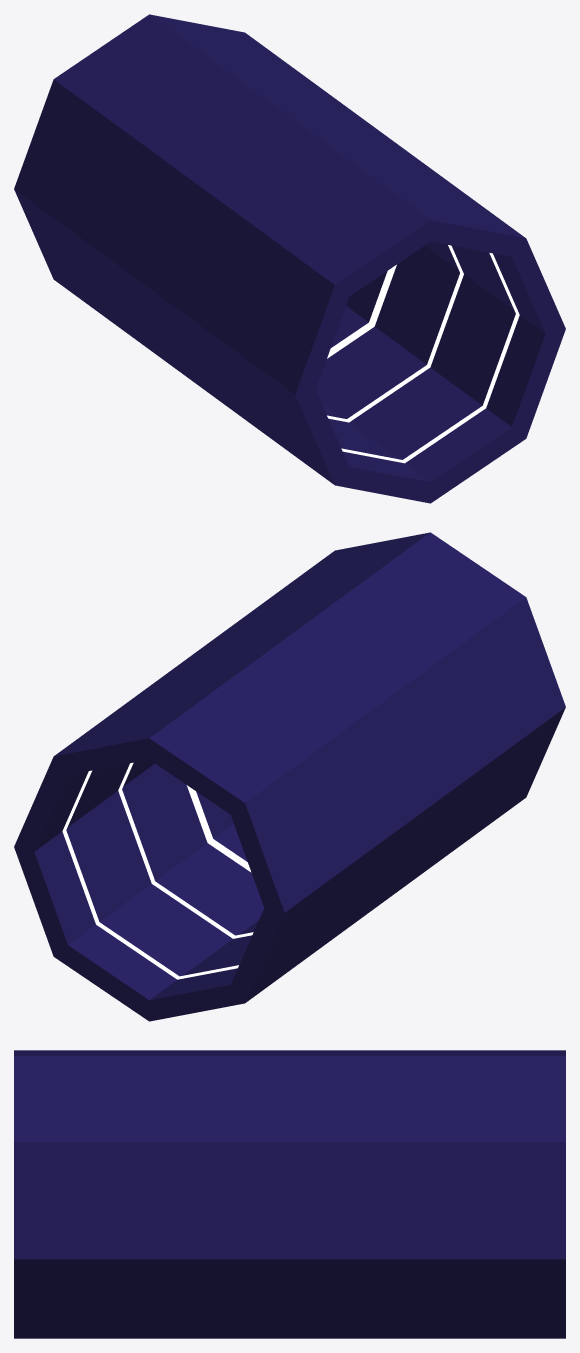
Rendered from expandedsectionmiddle.glb.
3 views of the same model, one above another, from view 1: azimuth 30°, elevation 25°; view 2: azimuth 150°, elevation 25°; view 3: azimuth 270°, elevation 25° (orthographic).
Visible parts, largest first — view 1: Cylinder.003; view 2: Cylinder.003; view 3: Cylinder.003.
Boxes of the visible parts, x1=… form: Cylinder.003: x1=14, y1=14, x2=565, y2=503; Cylinder.003: x1=14, y1=532, x2=565, y2=1021; Cylinder.003: x1=14, y1=1050, x2=565, y2=1338.
Bounding box in the file's own units: 100 × 100 × 180.
